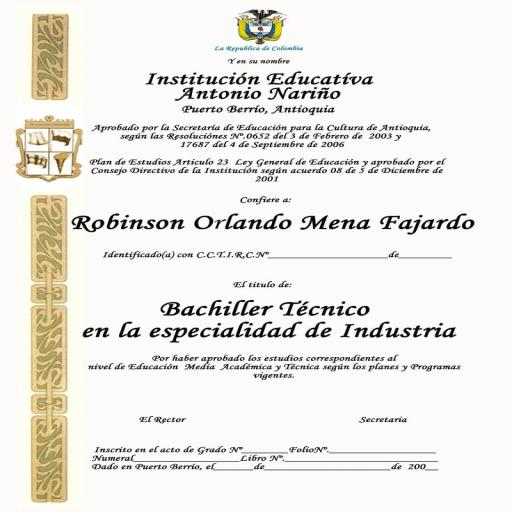diploma: (0, 5, 511, 501)
institucion: (134, 68, 386, 108)
nombre: (61, 204, 487, 238)
